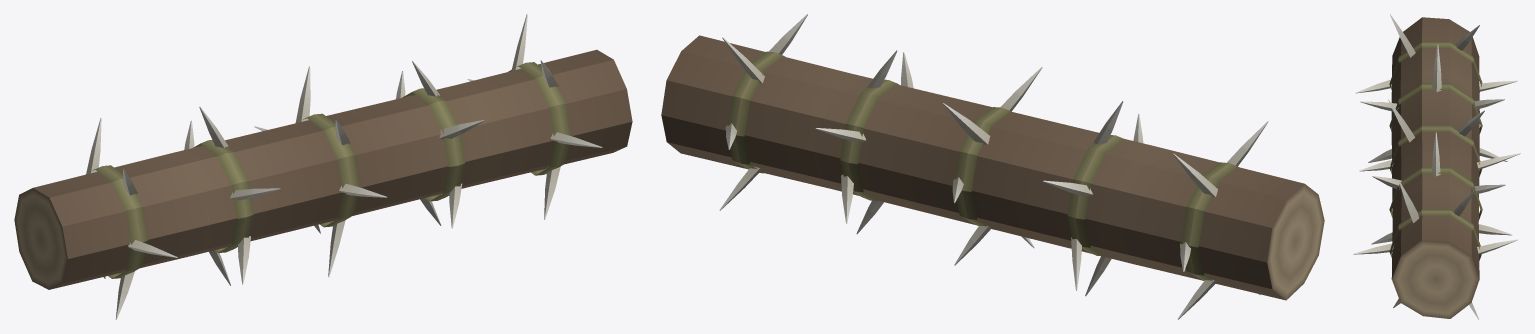
The model's file is rolling_log_spiked_a.glb.
3 renders of one model, left to right at view 1: azimuth 30°, elevation 25°; view 2: azimuth 150°, elevation 25°; view 3: azimuth 270°, elevation 25°, orthographic. The views are drawn at different scales.
Visible parts, largest first — view 1: rolling_log_spiked_a; view 2: rolling_log_spiked_a; view 3: rolling_log_spiked_a.
Boxes of the visible parts, box(x1,y1,x2,y2) form: rolling_log_spiked_a: box(14, 14, 632, 319); rolling_log_spiked_a: box(661, 14, 1324, 319); rolling_log_spiked_a: box(1353, 14, 1520, 319).
Size of the model in its own units: 2.4 by 0.7659 by 0.7627.
